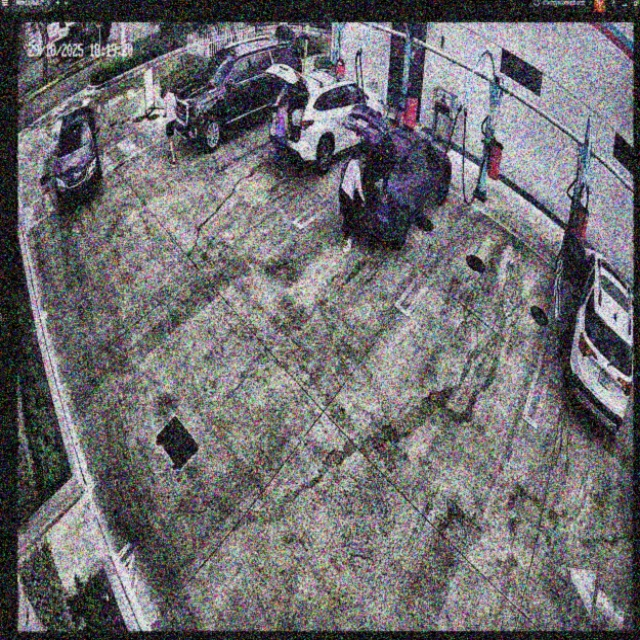Car: (341, 110, 452, 251), (266, 64, 385, 169)
